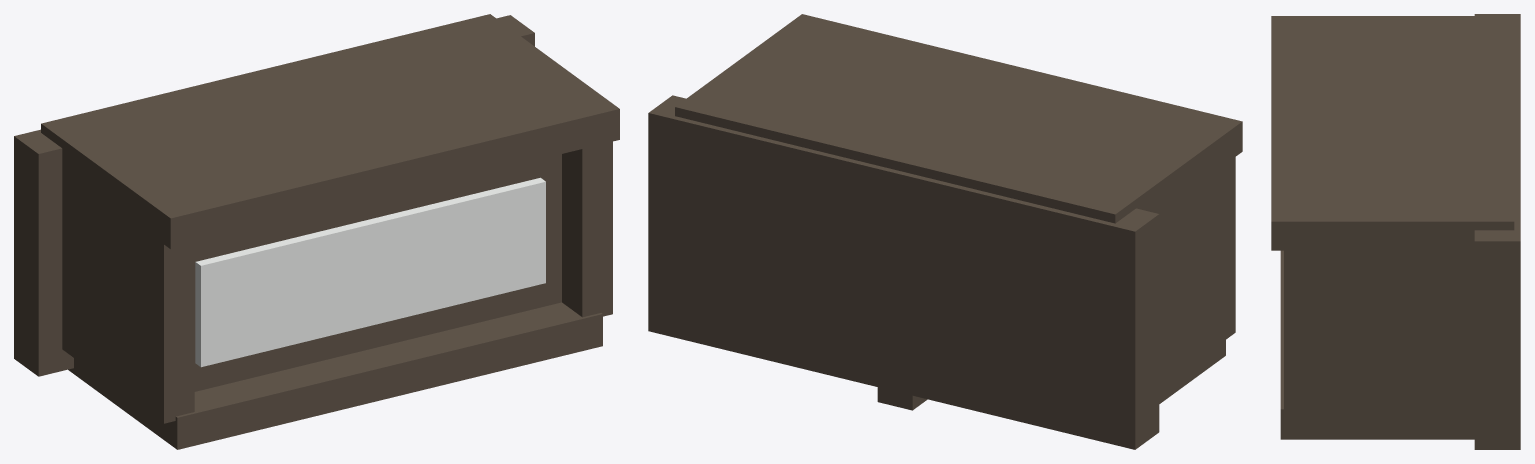
File: garage_floodlight.glb
3 views of the same model, side by side, from view 1: azimuth 30°, elevation 25°; view 2: azimuth 150°, elevation 25°; view 3: azimuth 270°, elevation 25° (orthographic). The views are drawn at different scales.
Parts seen in each view (by area): view 1: GarageFloodlight; view 2: GarageFloodlight; view 3: GarageFloodlight.
Part boxes in pixels (x1,y1,x2,y2): GarageFloodlight: (14, 14, 619, 449); GarageFloodlight: (648, 14, 1242, 449); GarageFloodlight: (1271, 14, 1520, 449).
Size of the model in its own units: 0.42 by 0.2025 by 0.195.
